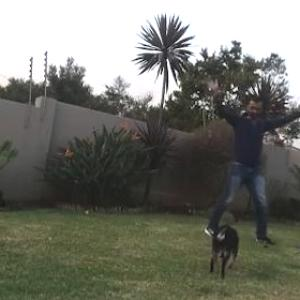takeoff: (209, 74, 299, 245)
